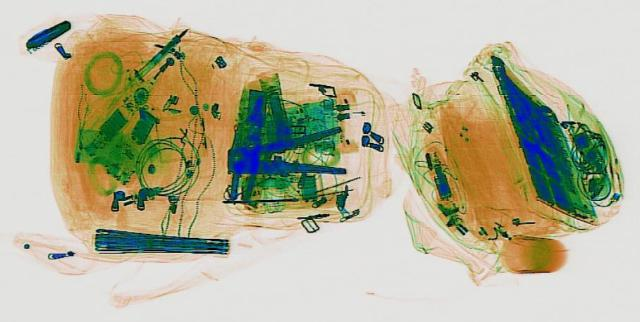Pliers: (220, 126, 356, 178)
